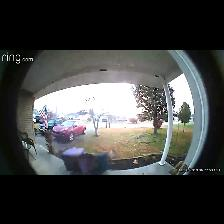person: (79, 150, 116, 174)
